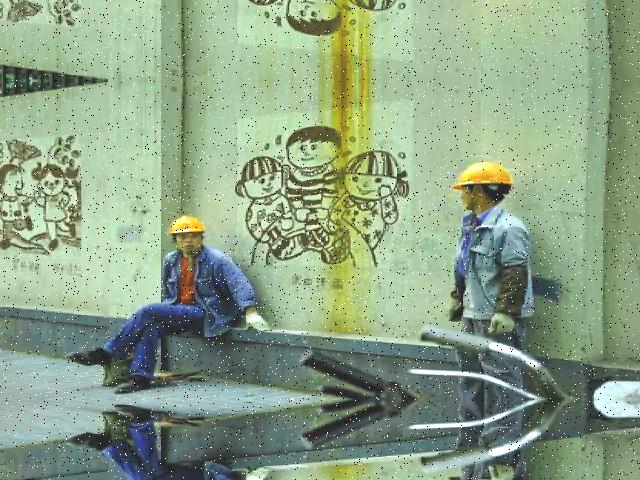Helmet: (447, 158, 516, 199), (162, 210, 210, 244)
